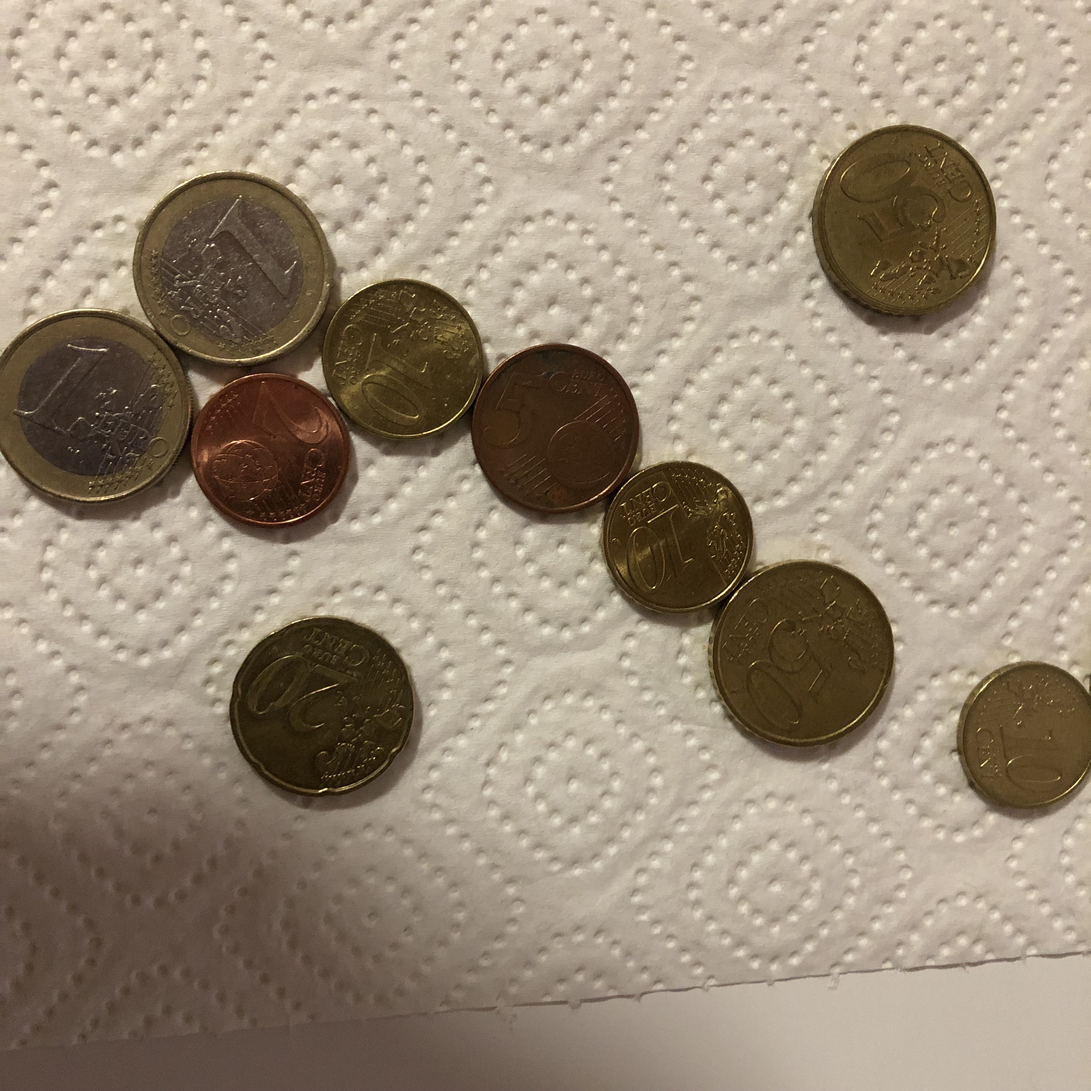1 euro: (131, 169, 337, 366), (0, 306, 196, 504)
10 cent: (320, 278, 482, 443), (604, 459, 755, 611), (954, 661, 1091, 813)
2 cent: (186, 373, 353, 531)
20 cent: (228, 615, 417, 799)
5 cent: (470, 342, 645, 513)
50 cent: (708, 559, 901, 752), (808, 121, 997, 318)
